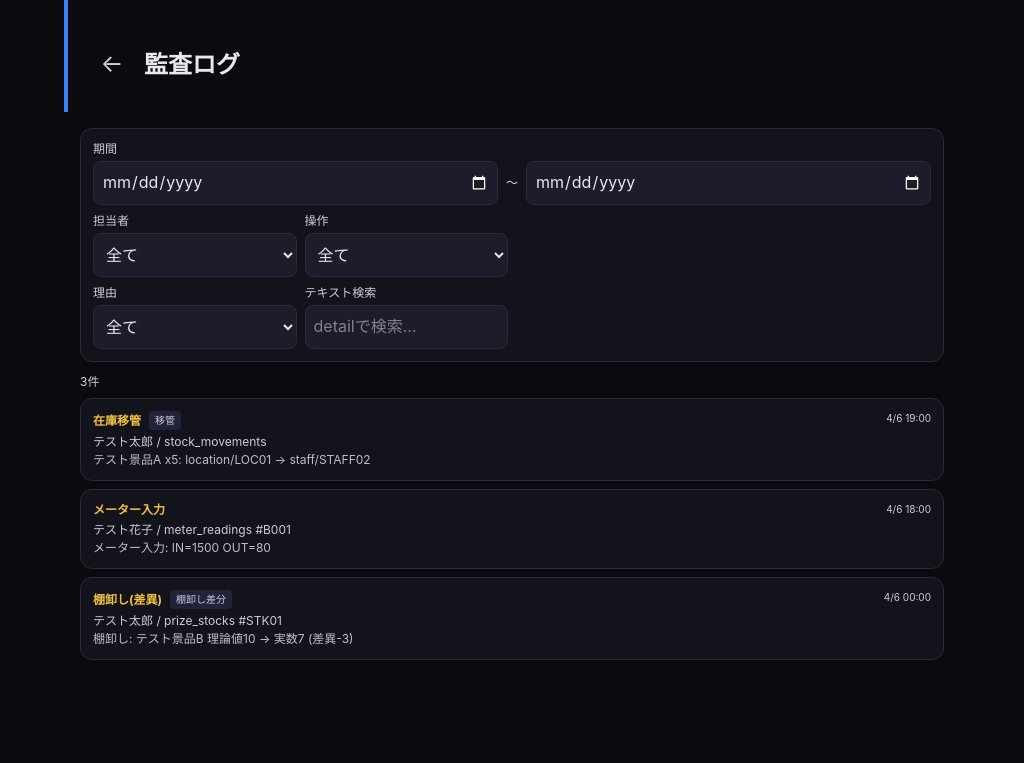
Test case: AuditLog 監査ログ画面 › 差分表示が展開される
This screenshot has width=1024, height=763.
Expected: the text "テスト景品A x5: location/LOC01 → staff/STAFF02" is shown, [93,452,371,467]
最初のログ（stock_transfer）をクリックして展開
Click the element that starts with "在庫移管": (512, 440) [80,398,944,481]
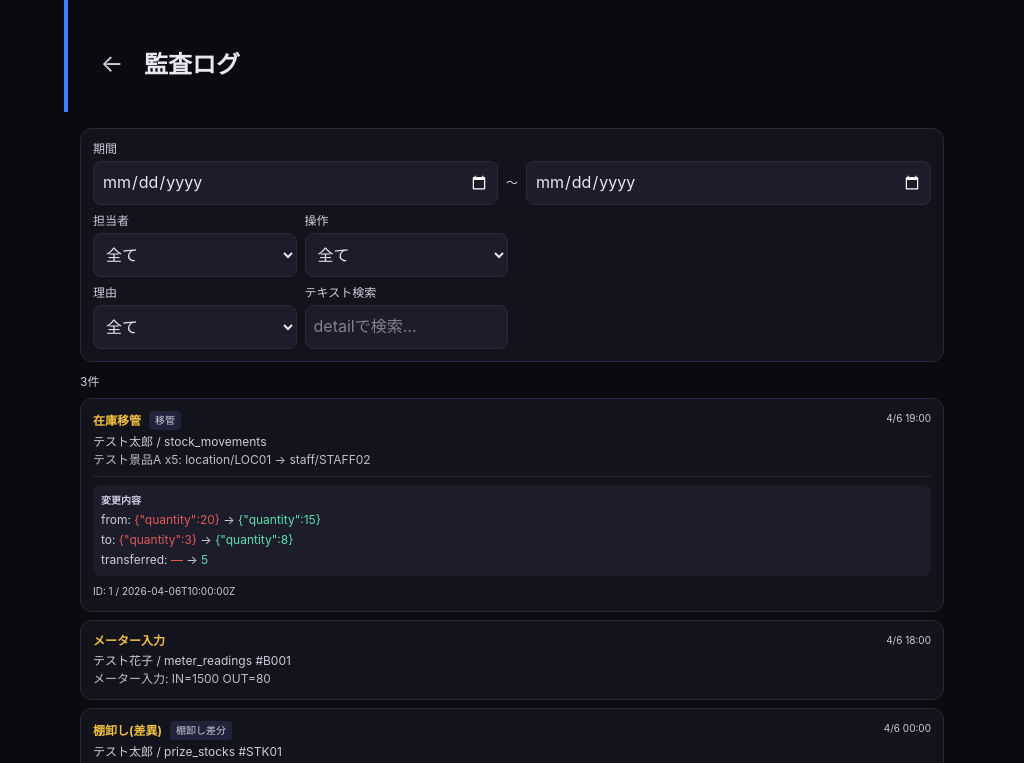
Now the text "変更内容" is shown, box [101,494,141,506]
Now the text "transferred:" is shown, box [101,552,171,567]
